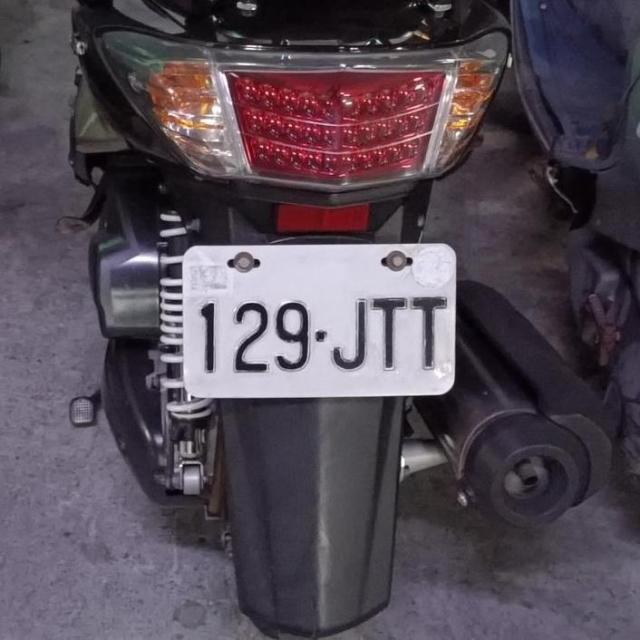W: (180, 237, 463, 399)
